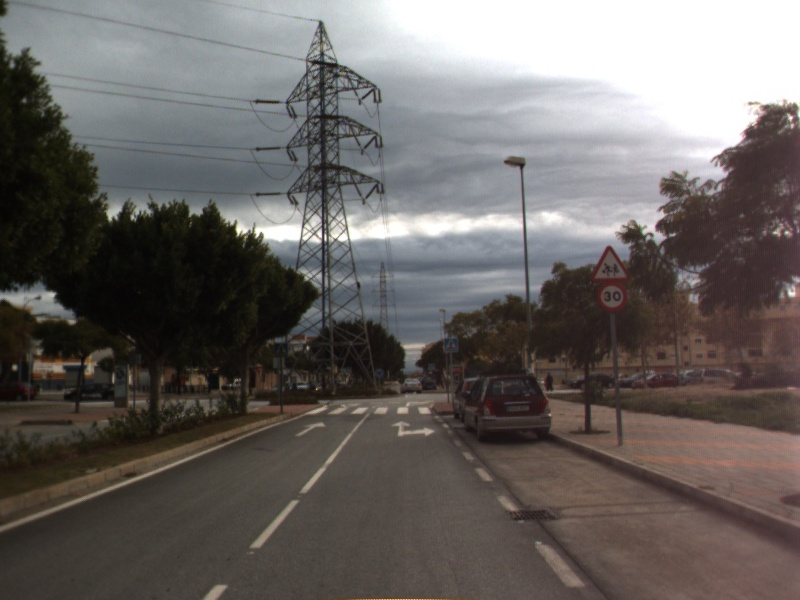STRAIGHT: (293, 419, 328, 438)
STRAIGHT_RIGHT: (389, 418, 437, 438)
